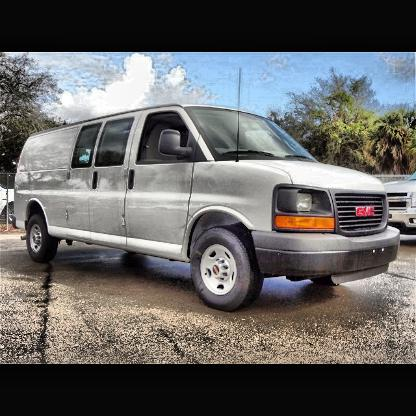GMC Savana Van 2012: (13, 103, 403, 311)
